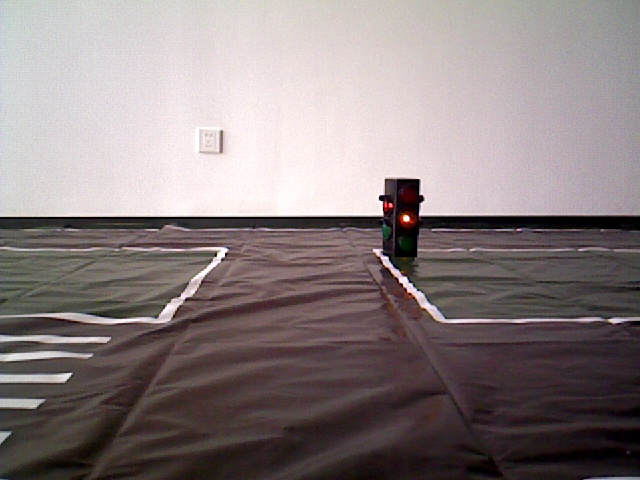yellow: (384, 178, 421, 257)
